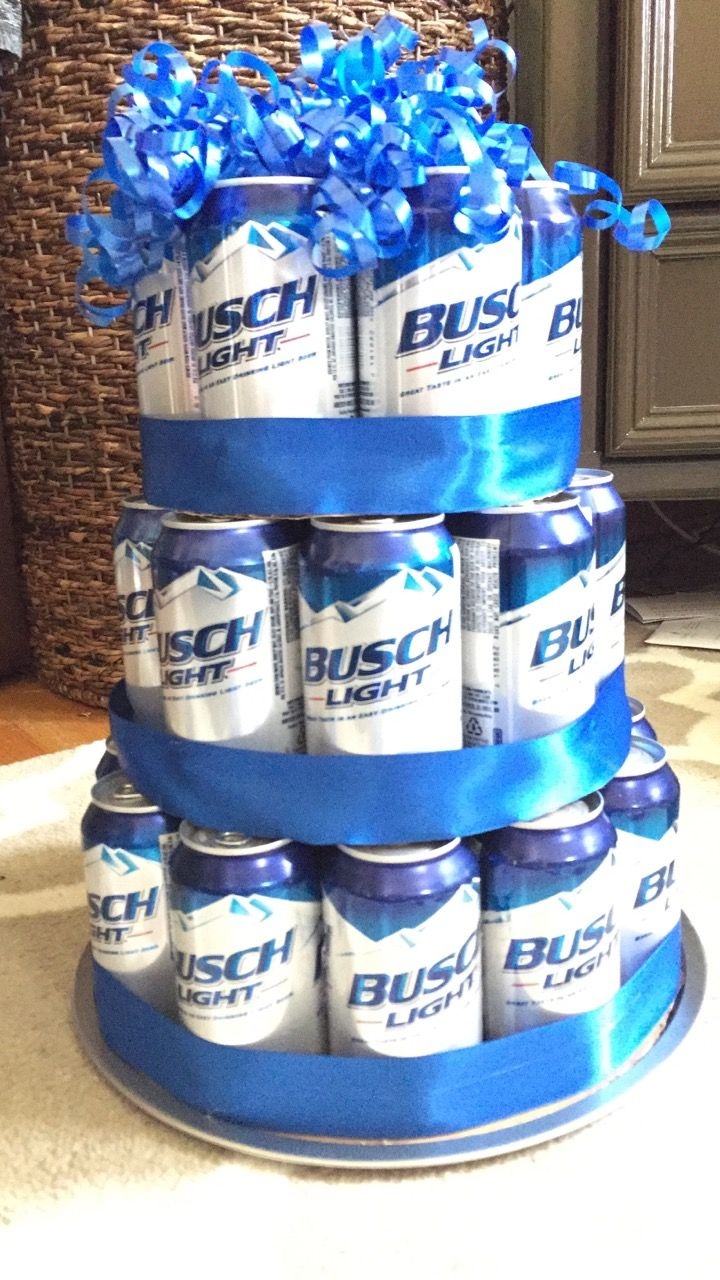beer can: (296, 507, 468, 786), (366, 158, 531, 416), (156, 491, 303, 777), (177, 174, 335, 433), (161, 816, 326, 1063), (445, 507, 600, 760), (324, 830, 486, 1058), (486, 807, 619, 1033), (79, 763, 191, 1026), (591, 735, 682, 986), (93, 493, 186, 728), (547, 456, 633, 691), (517, 156, 591, 414), (112, 219, 196, 437)
